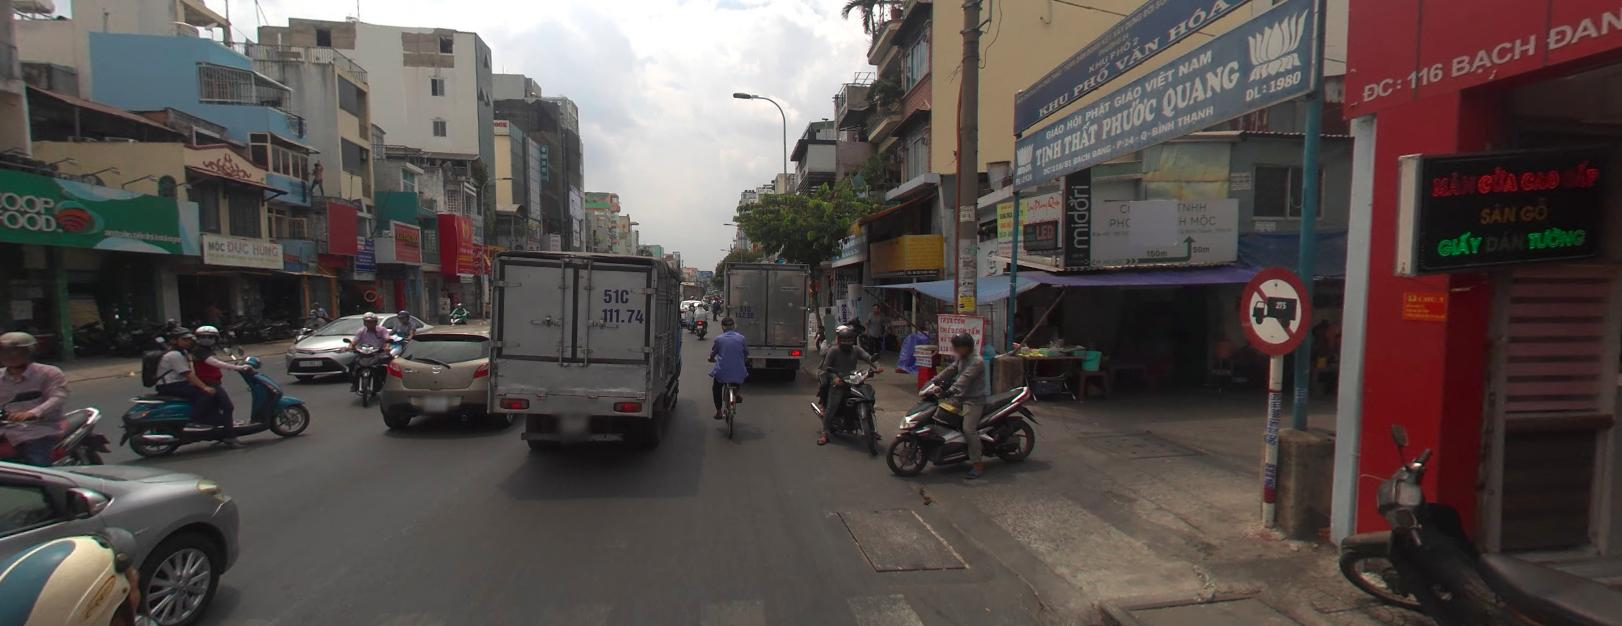Cam con lai: (1239, 260, 1310, 357), (1240, 263, 1310, 354)
